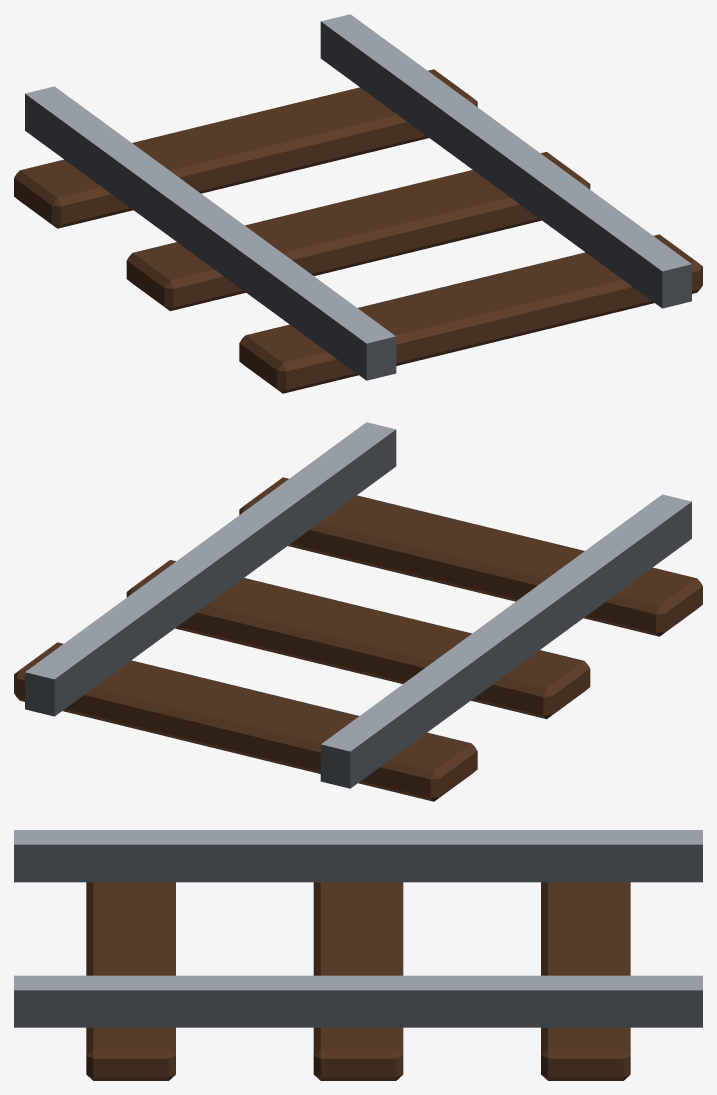
File: Prop_Rails.fbx
The picture shows the model from 3 angles, top to bottom: view 1: azimuth 30°, elevation 25°; view 2: azimuth 150°, elevation 25°; view 3: azimuth 270°, elevation 25°; orthographic projection.
Parts seen in each view (by area): view 1: Prop_Rails; view 2: Prop_Rails; view 3: Prop_Rails.
Boxes of the visible parts, bbox=[...] form: Prop_Rails: bbox=[14, 14, 702, 393]; Prop_Rails: bbox=[14, 422, 702, 801]; Prop_Rails: bbox=[14, 830, 702, 1080].
Size of the model in its own units: 0.72 by 0.11 by 1.
